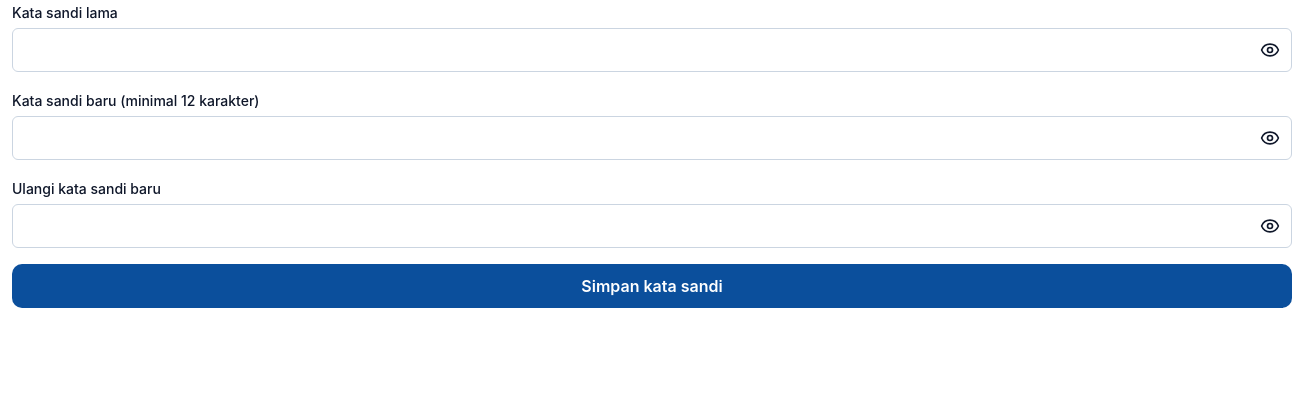
Test: FormGantiPassword › tetap di halaman, mengosongkan form, dan menampilkan konfirmasi pada penggantian sukarela
Type "lama-12345678" into the password field labelled "Kata sandi lama" at (652, 50), box [12,28,1292,72]
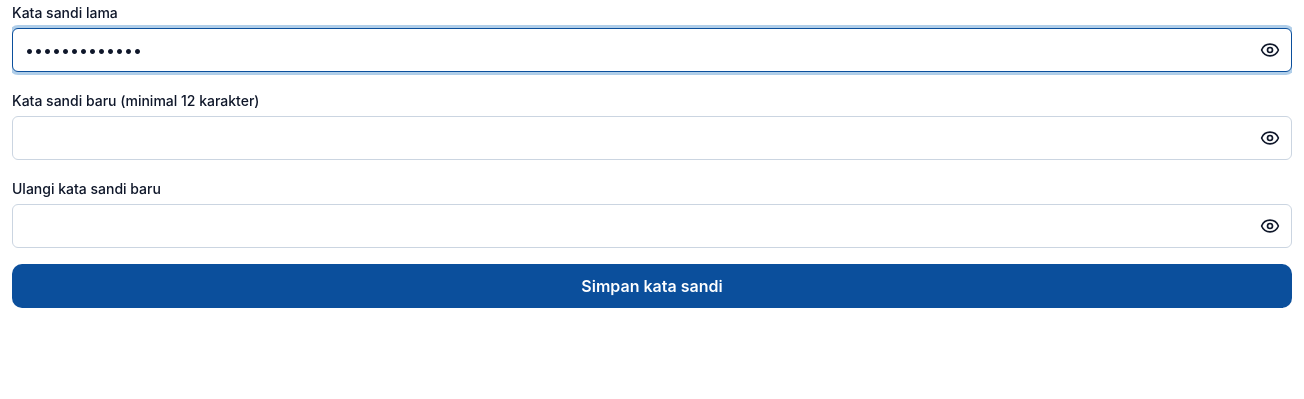
Type "baru-98765432" into the password field labelled "Kata sandi baru (minimal 12 karakter)" at (652, 138), box [12,116,1292,160]
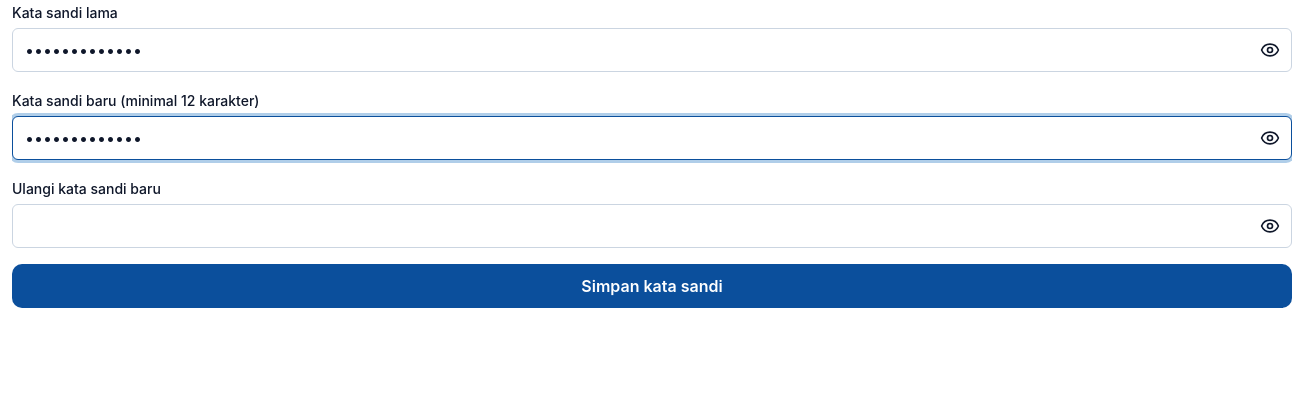
Type "baru-98765432" into the password field labelled "Ulangi kata sandi baru" at (652, 226), box [12,204,1292,248]
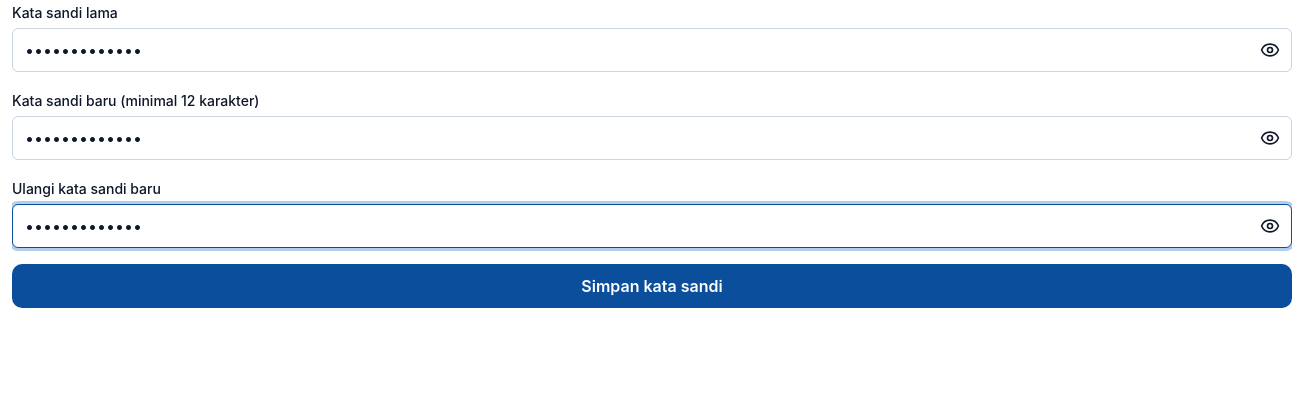
Click the button "Simpan kata sandi" at (652, 286), box [12,264,1292,308]
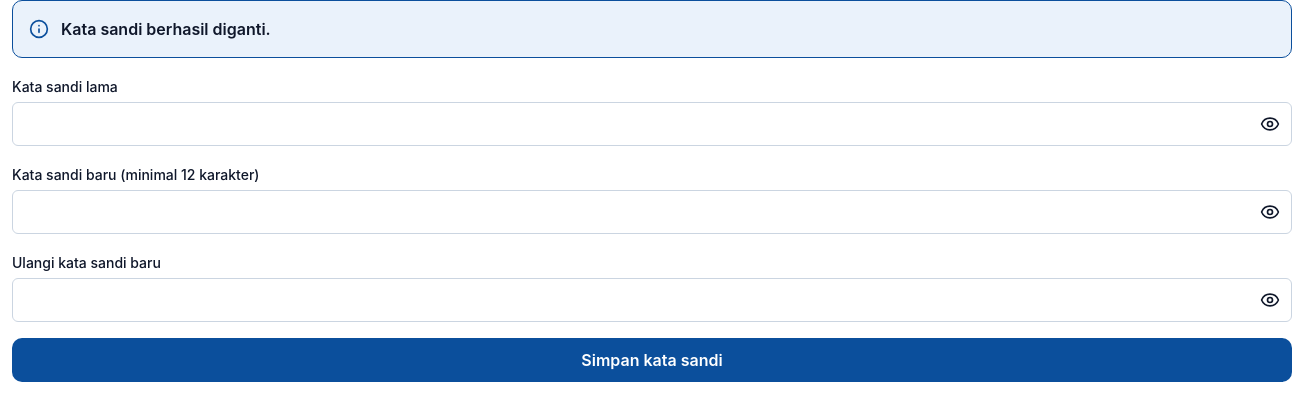
expect the message reads "Kata sandi berhasil diganti.": met, box [61,19,271,39]
expect the password field labelled "Kata sandi lama" is empty: met, box [12,102,1292,146]
